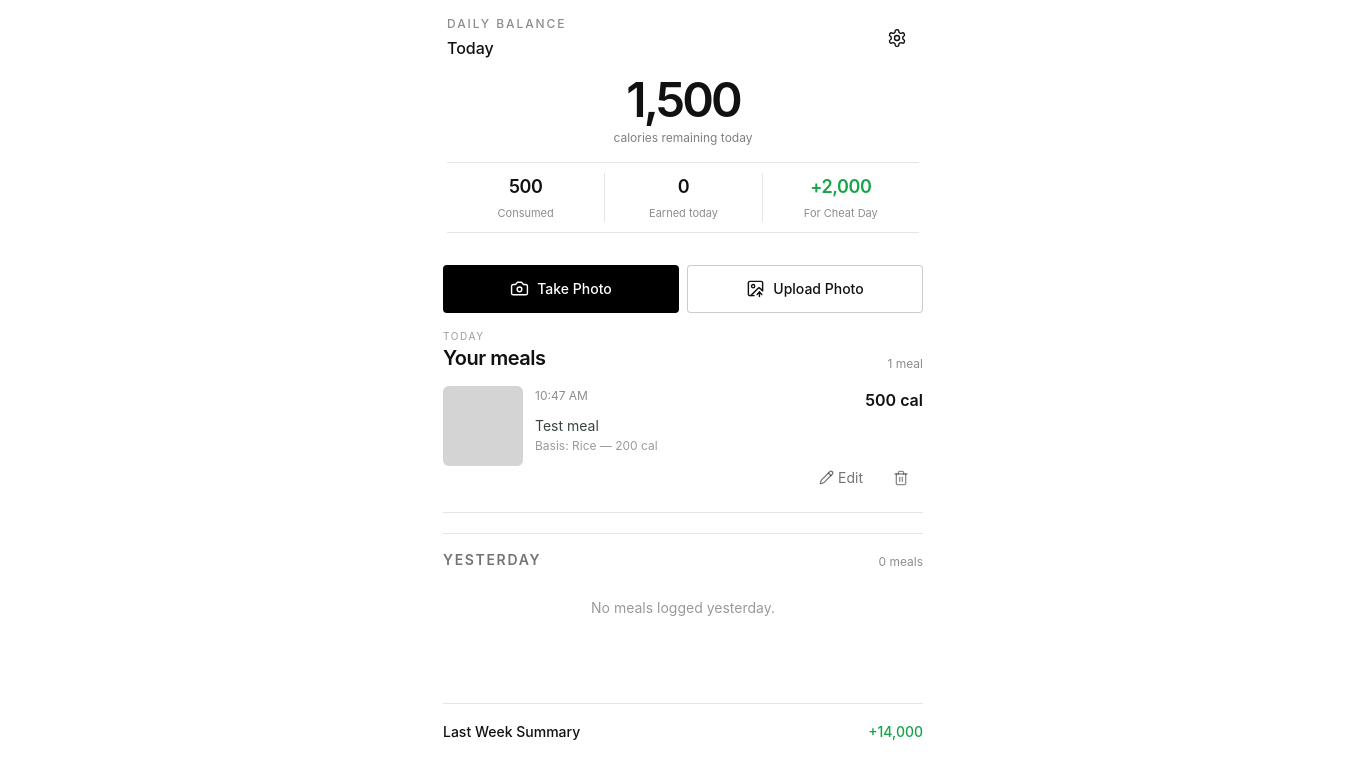
Scenario: Home meal persistence › updates settings and deletes a meal
Expected: the text "Test meal" is shown, [535,416,599,434]
Click the button named "Open settings" at (897,38), box [875,16,919,60]
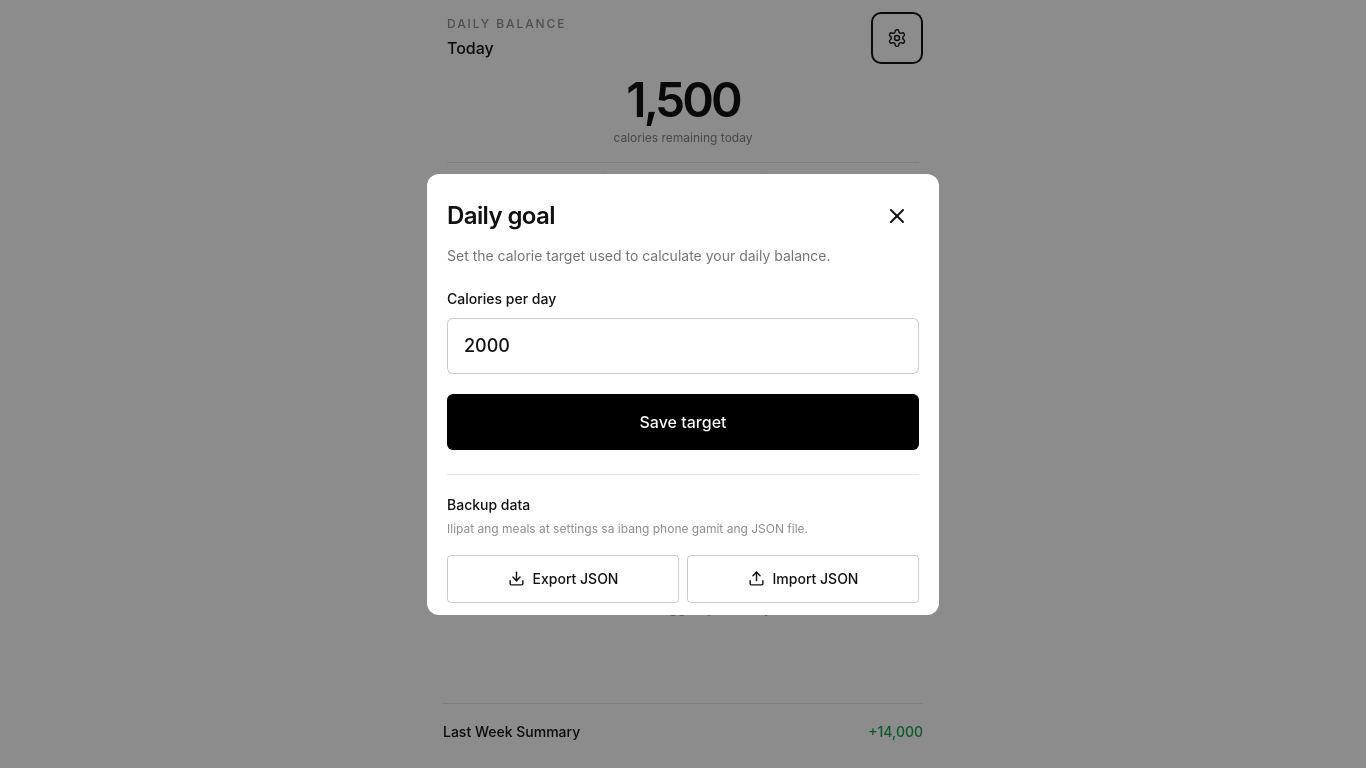
Replace the text in the number field labelled "Calories per day" with "1800" at (683,346), box [447,318,919,374]
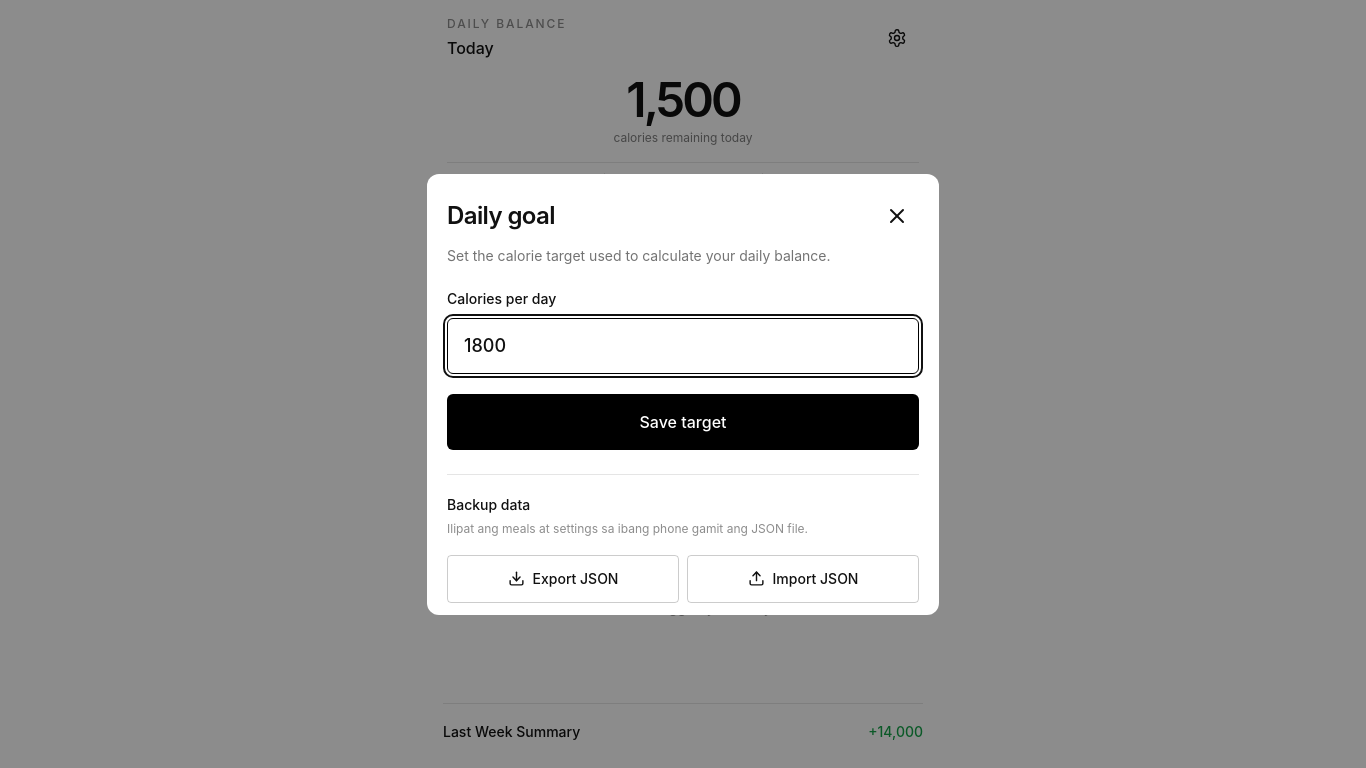
Click the button "Save target" at (683,422), box [447,394,919,450]
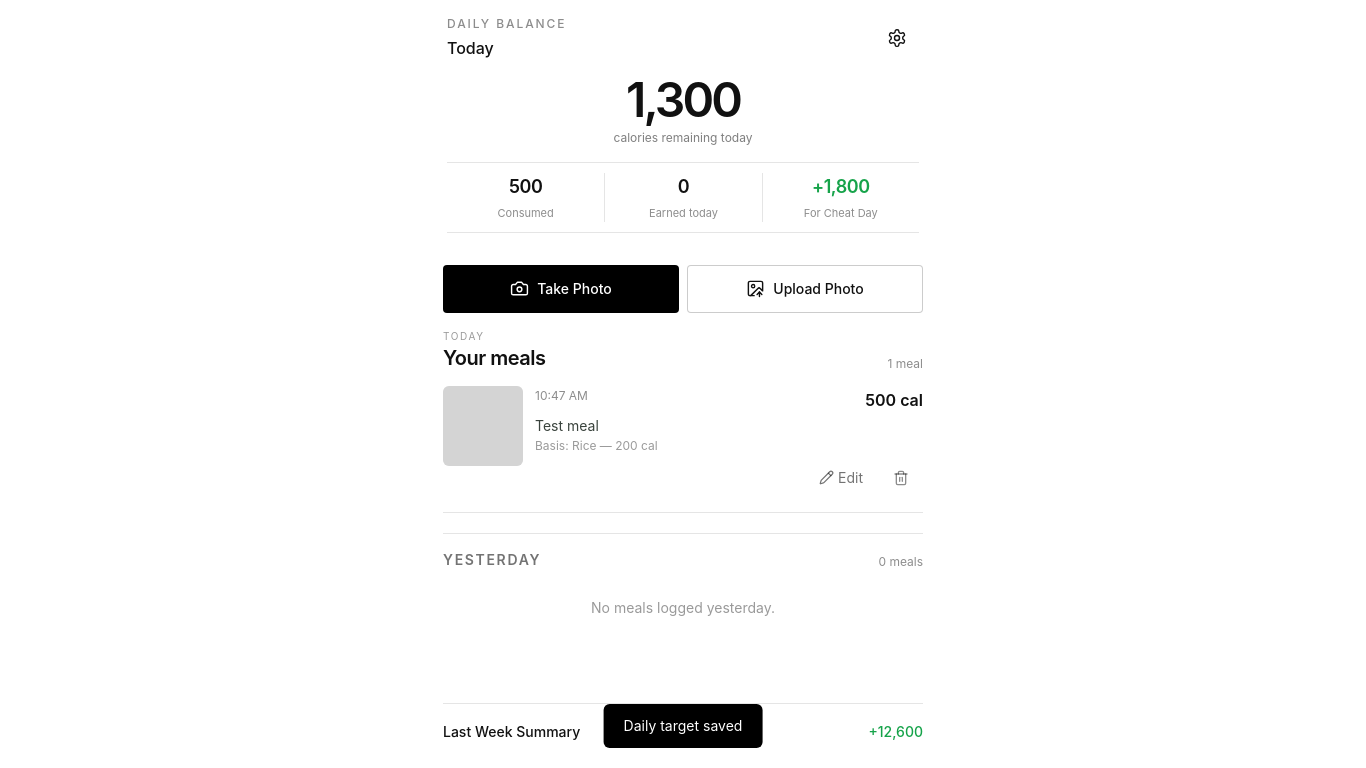
Click the button named "Delete meal" at (901,478), box [879,456,923,500]
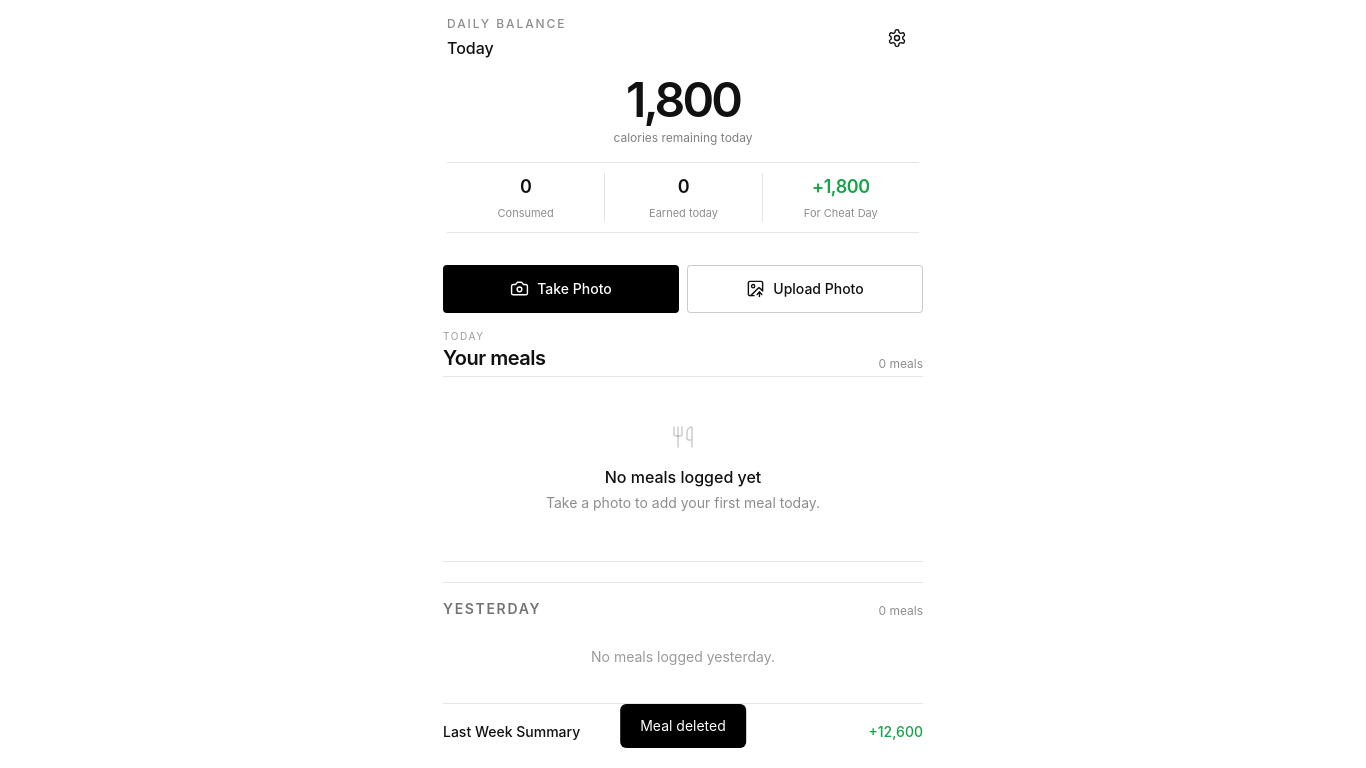
Now the text "No meals logged yet" is shown, box [605,466,761,486]
